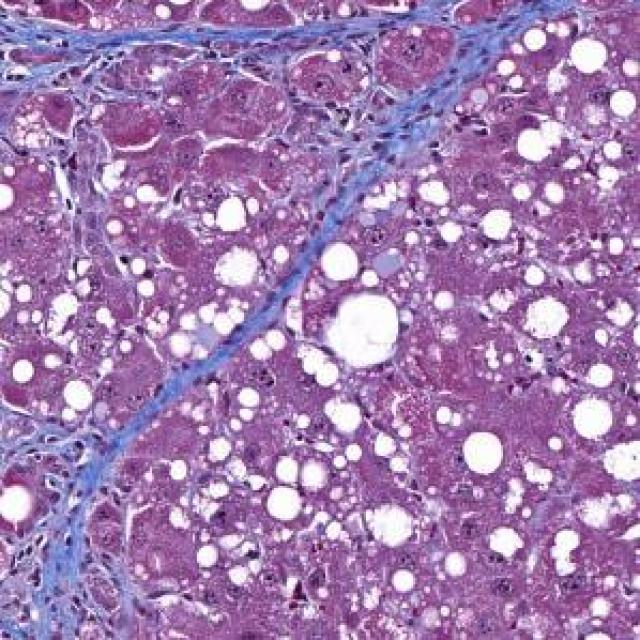fibrosis: (0, 533, 193, 640), (0, 6, 180, 107), (319, 77, 460, 186), (0, 413, 122, 512)
